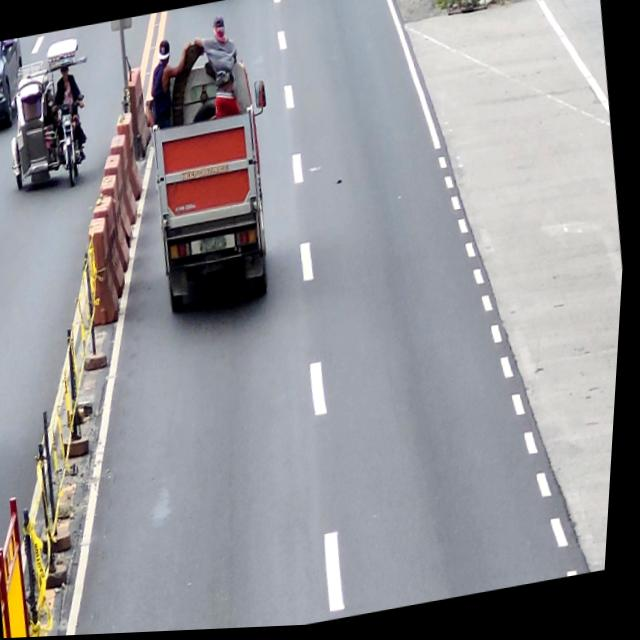Truck: (134, 53, 298, 314)
